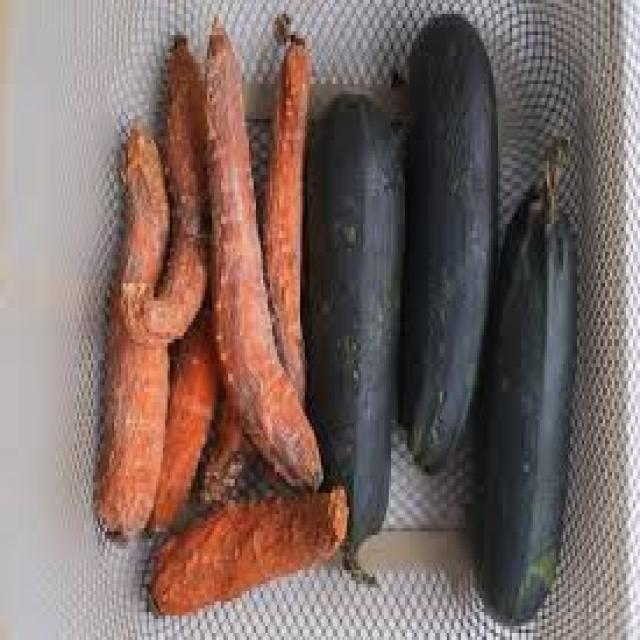Stale_Carrot: (200, 28, 325, 494), (150, 493, 345, 619)
